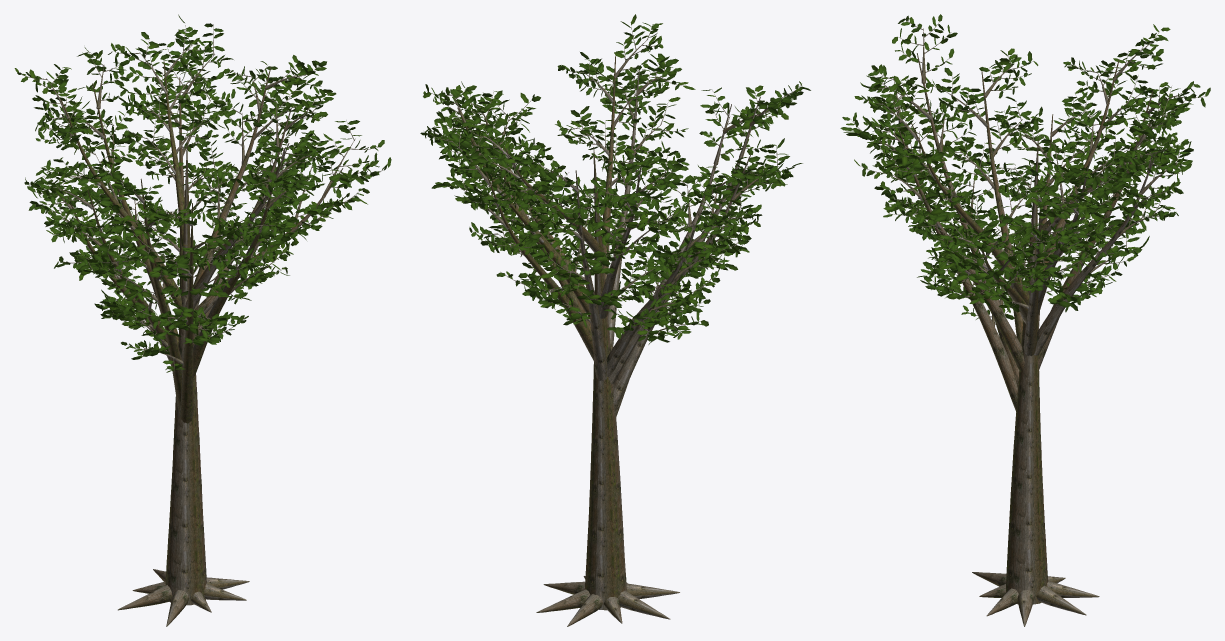
The model's file is oak_tall_lod1.gltf.
3 renders of one model, left to right at view 1: azimuth 30°, elevation 25°; view 2: azimuth 150°, elevation 25°; view 3: azimuth 270°, elevation 25°, orthographic. The views are drawn at different scales.
Visible parts, largest first — view 1: oak_tall_lod1; view 2: oak_tall_lod1; view 3: oak_tall_lod1.
Part boxes in pixels (box(x1,y1,x2,y2)): oak_tall_lod1: box(14, 14, 391, 626); oak_tall_lod1: box(420, 14, 810, 626); oak_tall_lod1: box(840, 14, 1210, 626).
Size of the model in its own units: 8.01 by 11.47 by 7.34.
3 materials, 3 textured.
